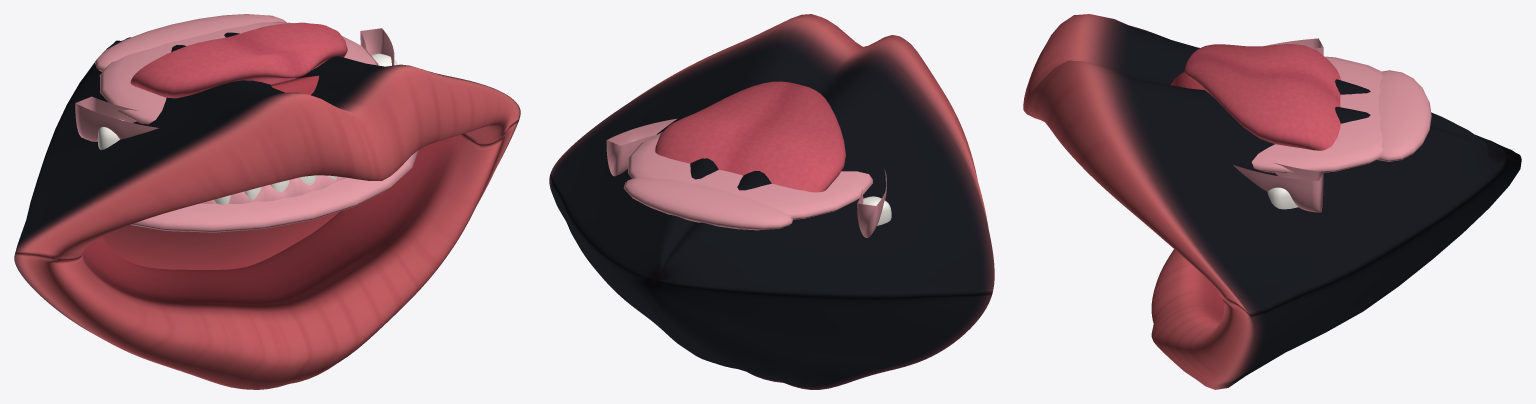
File: mouth-avatar.glb
The picture shows the model from 3 angles, left to right: view 1: azimuth 30°, elevation 25°; view 2: azimuth 150°, elevation 25°; view 3: azimuth 270°, elevation 25°; orthographic projection. The views are drawn at different scales.
Visible parts, largest first — view 1: Mouth_Lips, Tongue_Body, Sublingual_Floor, Hard_Palate, Velum_Uvula, Upper_Gingiva, Lower_Gingiva; view 2: Mouth_Lips, Tongue_Body, Hard_Palate, Velum_Uvula, Upper_Gingiva; view 3: Mouth_Lips, Tongue_Body, Hard_Palate, Velum_Uvula, Upper_Gingiva, UpperTooth_R6.
Boxes of the visible parts, left/top/right/bottom form: Mouth_Lips: left=14, top=32, right=520, bottom=389; Tongue_Body: left=130, top=22, right=347, bottom=98; Sublingual_Floor: left=130, top=150, right=418, bottom=232; Hard_Palate: left=99, top=21, right=378, bottom=124; Velum_Uvula: left=94, top=14, right=285, bottom=71; Upper_Gingiva: left=75, top=28, right=394, bottom=141; Lower_Gingiva: left=200, top=175, right=346, bottom=203; Mouth_Lips: left=549, top=14, right=994, bottom=389; Tongue_Body: left=655, top=81, right=845, bottom=192; Hard_Palate: left=628, top=132, right=872, bottom=219; Velum_Uvula: left=623, top=177, right=793, bottom=230; Upper_Gingiva: left=606, top=118, right=886, bottom=237; Mouth_Lips: left=1023, top=14, right=1521, bottom=389; Tongue_Body: left=1184, top=44, right=1340, bottom=150; Hard_Palate: left=1252, top=56, right=1382, bottom=173; Velum_Uvula: left=1377, top=70, right=1431, bottom=161; Upper_Gingiva: left=1233, top=38, right=1323, bottom=212; UpperTooth_R6: left=1267, top=187, right=1298, bottom=209.
Bounding box in the file's own units: 0.6276 × 0.4183 × 0.5644.
5 materials, 2 textured.
